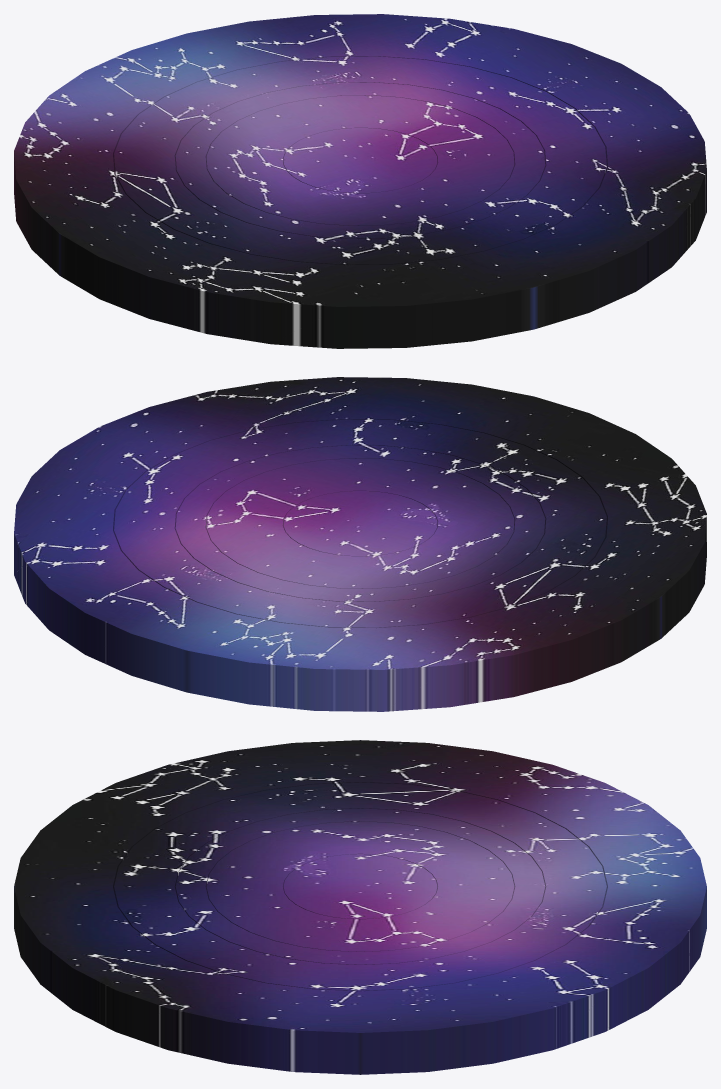
The model's file is puzzle3.fbx.
3 renders of one model, top to bottom at view 1: azimuth 30°, elevation 25°; view 2: azimuth 150°, elevation 25°; view 3: azimuth 270°, elevation 25°, orthographic.
Visible parts, largest first — view 1: Face4, Face3, Face1, Face2, Center; view 2: Face4, Face3, Face1, Face2, Center; view 3: Face4, Face3, Face1, Face2, Center.
Boxes of the visible parts, box(x1,y1,x2,y2) form: Face4: box(14, 14, 706, 348); Face3: box(114, 56, 606, 265); Face1: box(206, 95, 514, 225); Face2: box(175, 82, 545, 238); Center: box(283, 128, 437, 193); Face4: box(14, 377, 706, 711); Face3: box(114, 419, 606, 628); Face1: box(206, 458, 514, 588); Face2: box(175, 445, 545, 601); Center: box(283, 491, 437, 556); Face4: box(14, 740, 706, 1074); Face3: box(114, 782, 606, 991); Face1: box(206, 821, 514, 951); Face2: box(175, 808, 545, 964); Center: box(283, 854, 437, 919).
Bounding box in the file's own units: 900 × 63.69 × 900.
